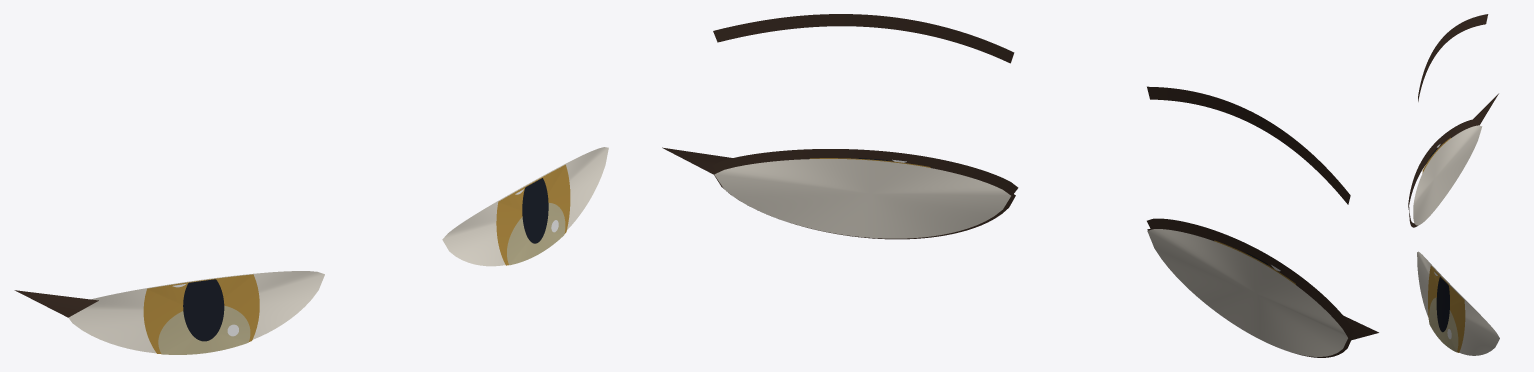
The picture shows the model from 3 angles, left to right: view 1: azimuth 30°, elevation 25°; view 2: azimuth 150°, elevation 25°; view 3: azimuth 270°, elevation 25°; orthographic projection. The views are drawn at different scales.
Visible parts, largest first — view 1: Eye_White_-1, Eye_White_1, Eye_Iris_-1, Eye_Iris_Light_-1, Eye_Iris_1, Eye_Pupil_-1, Eye_Iris_Light_1, Eye_Pupil_1, Eye_LashWing_-1; view 2: Eye_White_1, Eye_White_-1, Eyebrow_1, Eye_UpperLid_1, Eyebrow_-1, Eye_UpperLid_-1, Eye_LashWing_1; view 3: Eye_White_-1, Eye_White_1, Eye_Iris_1, Eye_Iris_Light_1, Eyebrow_-1, Eye_UpperLid_-1, Eye_Pupil_1, Eye_LashWing_-1.
Boxes of the visible parts, x1,y1,x2,y2 form: Eye_White_-1: (68, 271, 324, 353); Eye_White_1: (442, 147, 608, 266); Eye_Iris_-1: (143, 274, 259, 354); Eye_Iris_Light_-1: (158, 305, 250, 354); Eye_Iris_1: (496, 164, 570, 265); Eye_Pupil_-1: (183, 279, 224, 341); Eye_Iris_Light_1: (507, 203, 565, 265); Eye_Pupil_1: (522, 178, 548, 243); Eye_LashWing_-1: (14, 290, 98, 317); Eye_White_1: (714, 159, 1010, 238); Eye_White_-1: (1147, 229, 1347, 356); Eyebrow_1: (713, 14, 1014, 63); Eye_UpperLid_1: (712, 149, 1018, 194); Eyebrow_-1: (1147, 86, 1350, 204); Eye_UpperLid_-1: (1147, 218, 1353, 336); Eye_LashWing_1: (662, 147, 733, 174); Eye_White_-1: (1413, 125, 1482, 225); Eye_White_1: (1417, 251, 1499, 355); Eye_Iris_1: (1428, 265, 1465, 352); Eye_Iris_Light_1: (1429, 297, 1458, 352); Eyebrow_-1: (1418, 14, 1488, 101); Eye_UpperLid_-1: (1408, 119, 1479, 209); Eye_Pupil_1: (1436, 277, 1449, 332); Eye_LashWing_-1: (1473, 93, 1498, 125).
Bounding box in the file's own units: 0.4435 × 0.1467 × 0.081.
